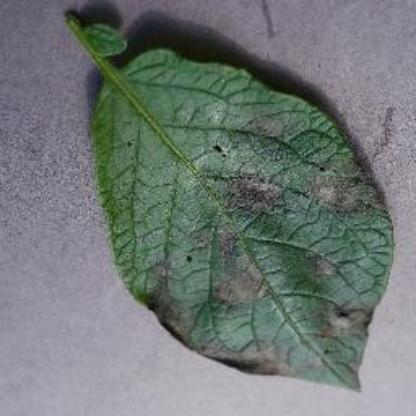Late-Blight: (46, 8, 402, 406)
